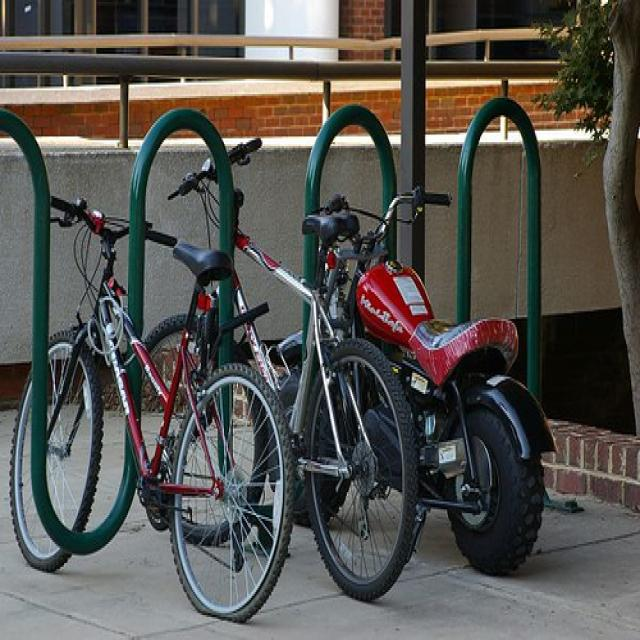motor: (343, 192, 559, 576)
